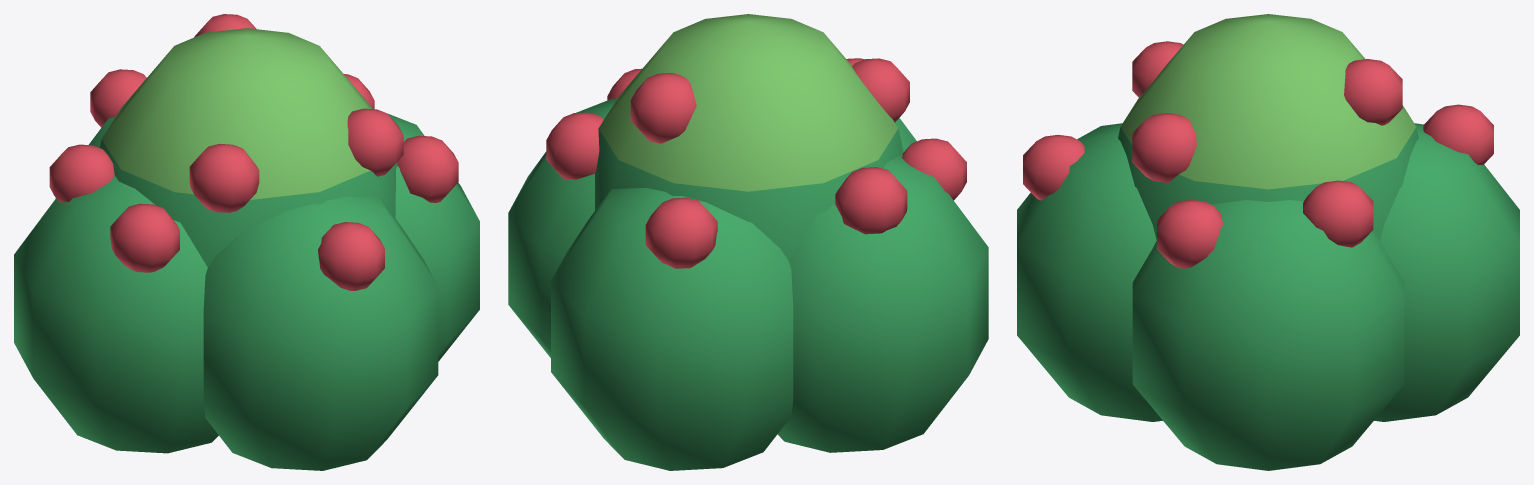
File: berry_bush.glb
3 renders of one model, left to right at view 1: azimuth 30°, elevation 25°; view 2: azimuth 150°, elevation 25°; view 3: azimuth 270°, elevation 25°, orthographic. The views are drawn at different scales.
Visible parts, largest first — view 1: Leaves, Berries; view 2: Leaves, Berries; view 3: Leaves, Berries.
Boxes of the visible parts, bbox=[...] form: Leaves: bbox=[14, 28, 479, 470]; Berries: bbox=[49, 14, 458, 290]; Leaves: bbox=[508, 14, 988, 470]; Berries: bbox=[546, 58, 966, 268]; Leaves: bbox=[1017, 14, 1519, 470]; Berries: bbox=[1023, 41, 1493, 268].
Size of the model in its own units: 1 by 0.8 by 1.
